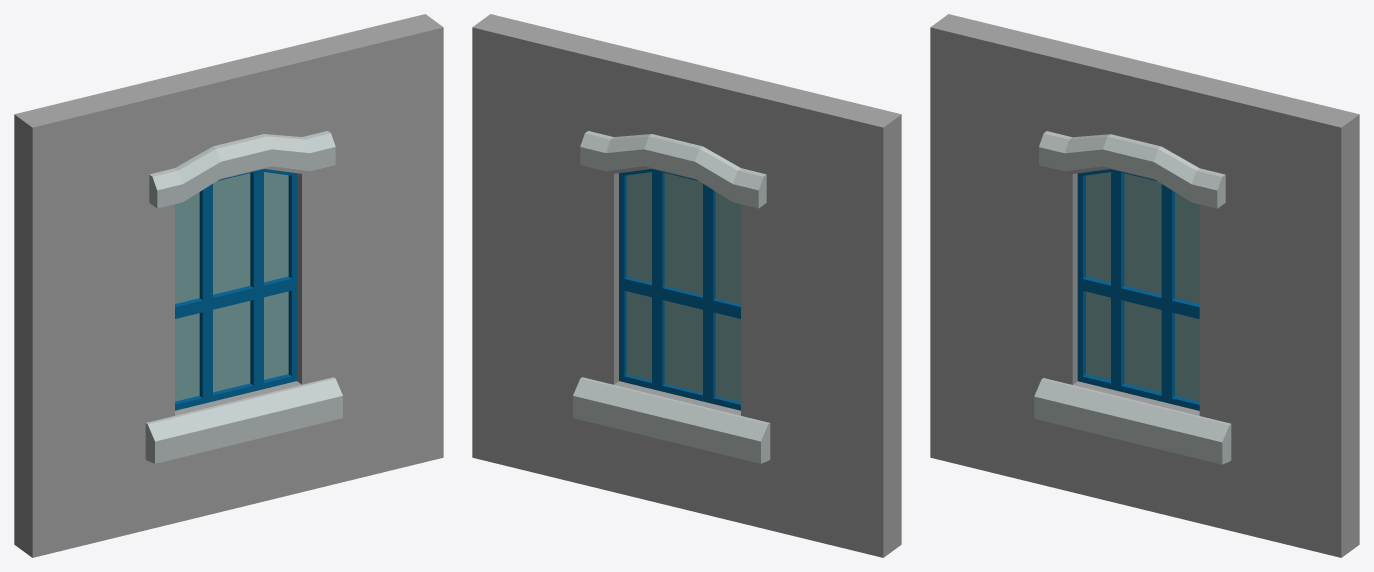
Rendered from NY_Street_Window_05.fbx.
3 views of the same model, side by side, from view 1: azimuth 30°, elevation 25°; view 2: azimuth 150°, elevation 25°; view 3: azimuth 330°, elevation 25° (orthographic).
Parts seen in each view (by area): view 1: NY_Street_Window_05; view 2: NY_Street_Window_05; view 3: NY_Street_Window_05.
Boxes of the visible parts, x1,y1,x2,y2 form: NY_Street_Window_05: (14,14,443,557); NY_Street_Window_05: (472,14,901,557); NY_Street_Window_05: (930,14,1359,557).
Size of the model in its own units: 400 by 400 by 62.16.
